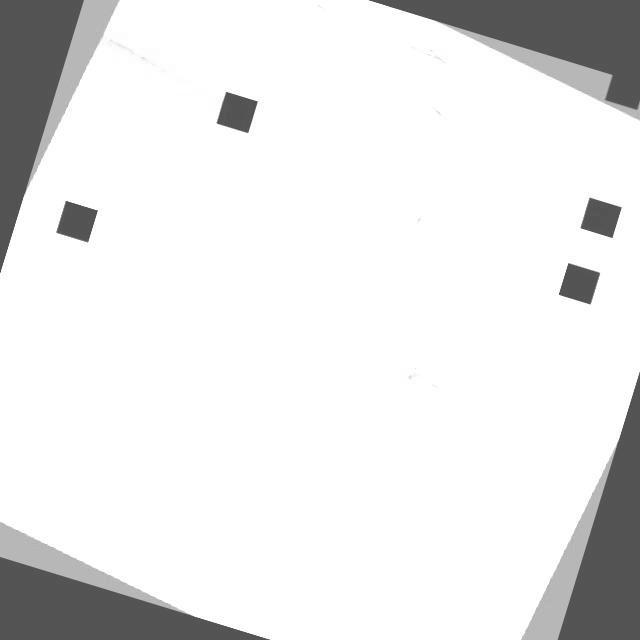aeroplane: (330, 338, 494, 423)
